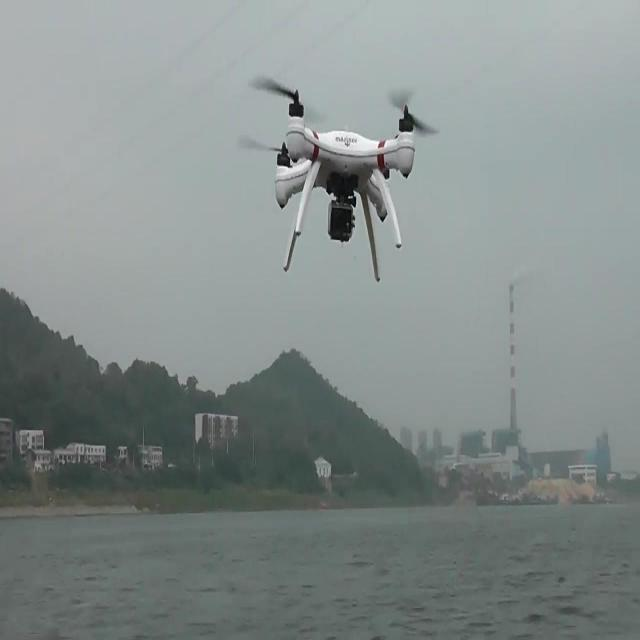UAV: (240, 76, 440, 282)
